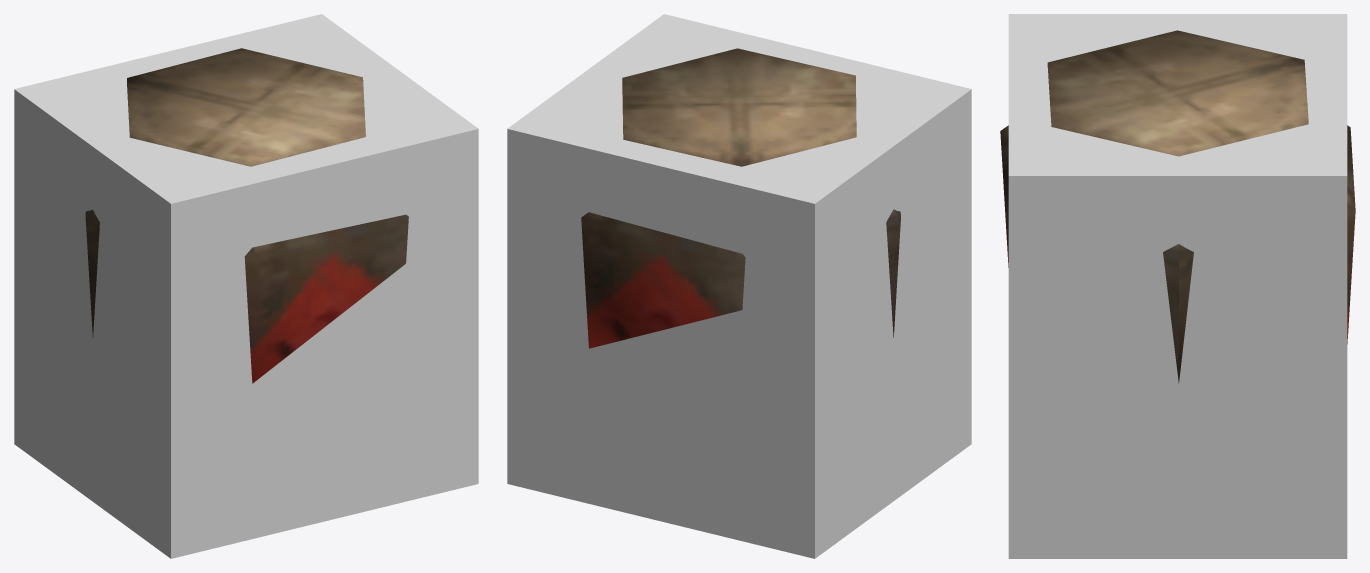
File: YHJ_jiutan.FBX
The picture shows the model from 3 angles, left to right: view 1: azimuth 30°, elevation 25°; view 2: azimuth 150°, elevation 25°; view 3: azimuth 270°, elevation 25°; orthographic projection. The views are drawn at different scales.
Visible parts, largest first — view 1: YHJ_jiutan-col, YHJ_jiutan; view 2: YHJ_jiutan-col, YHJ_jiutan; view 3: YHJ_jiutan-col, YHJ_jiutan.
Part boxes in pixels (x1,y1,x2,y2): YHJ_jiutan-col: (14, 14, 478, 558); YHJ_jiutan: (85, 48, 408, 383); YHJ_jiutan-col: (507, 14, 971, 558); YHJ_jiutan: (581, 48, 900, 348); YHJ_jiutan-col: (1008, 14, 1347, 558); YHJ_jiutan: (1000, 30, 1355, 383).
Size of the model in its own units: 1.1 by 1.17 by 0.9717.
